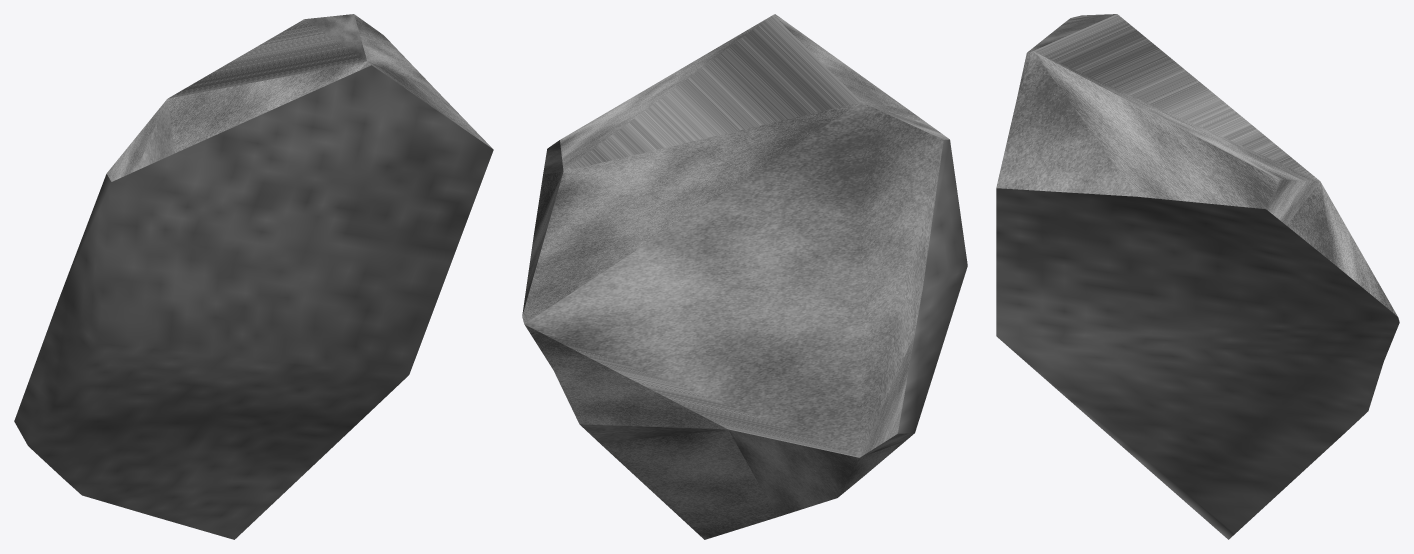
File: leg_1_cell_018.fbx
The picture shows the model from 3 angles, left to right: view 1: azimuth 30°, elevation 25°; view 2: azimuth 150°, elevation 25°; view 3: azimuth 270°, elevation 25°; orthographic projection. The views are drawn at different scales.
Visible parts, largest first — view 1: leg_1_cell.018; view 2: leg_1_cell.018; view 3: leg_1_cell.018.
Boxes of the visible parts, x1=… form: leg_1_cell.018: x1=14, y1=14, x2=493, y2=539; leg_1_cell.018: x1=522, y1=14, x2=967, y2=539; leg_1_cell.018: x1=996, y1=14, x2=1399, y2=539.
Size of the model in its own units: 33.53 by 44.06 by 32.23.
